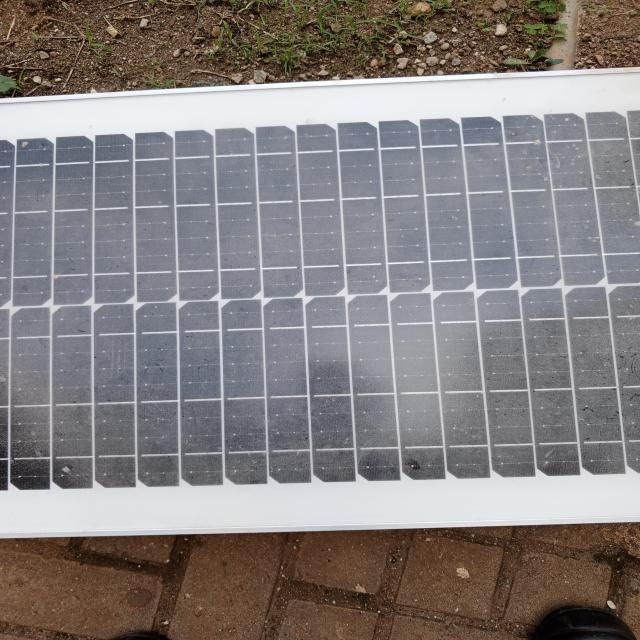Anomaly Solar Panel: (3, 106, 640, 498)
Surface Contaminant: (14, 118, 639, 495)
